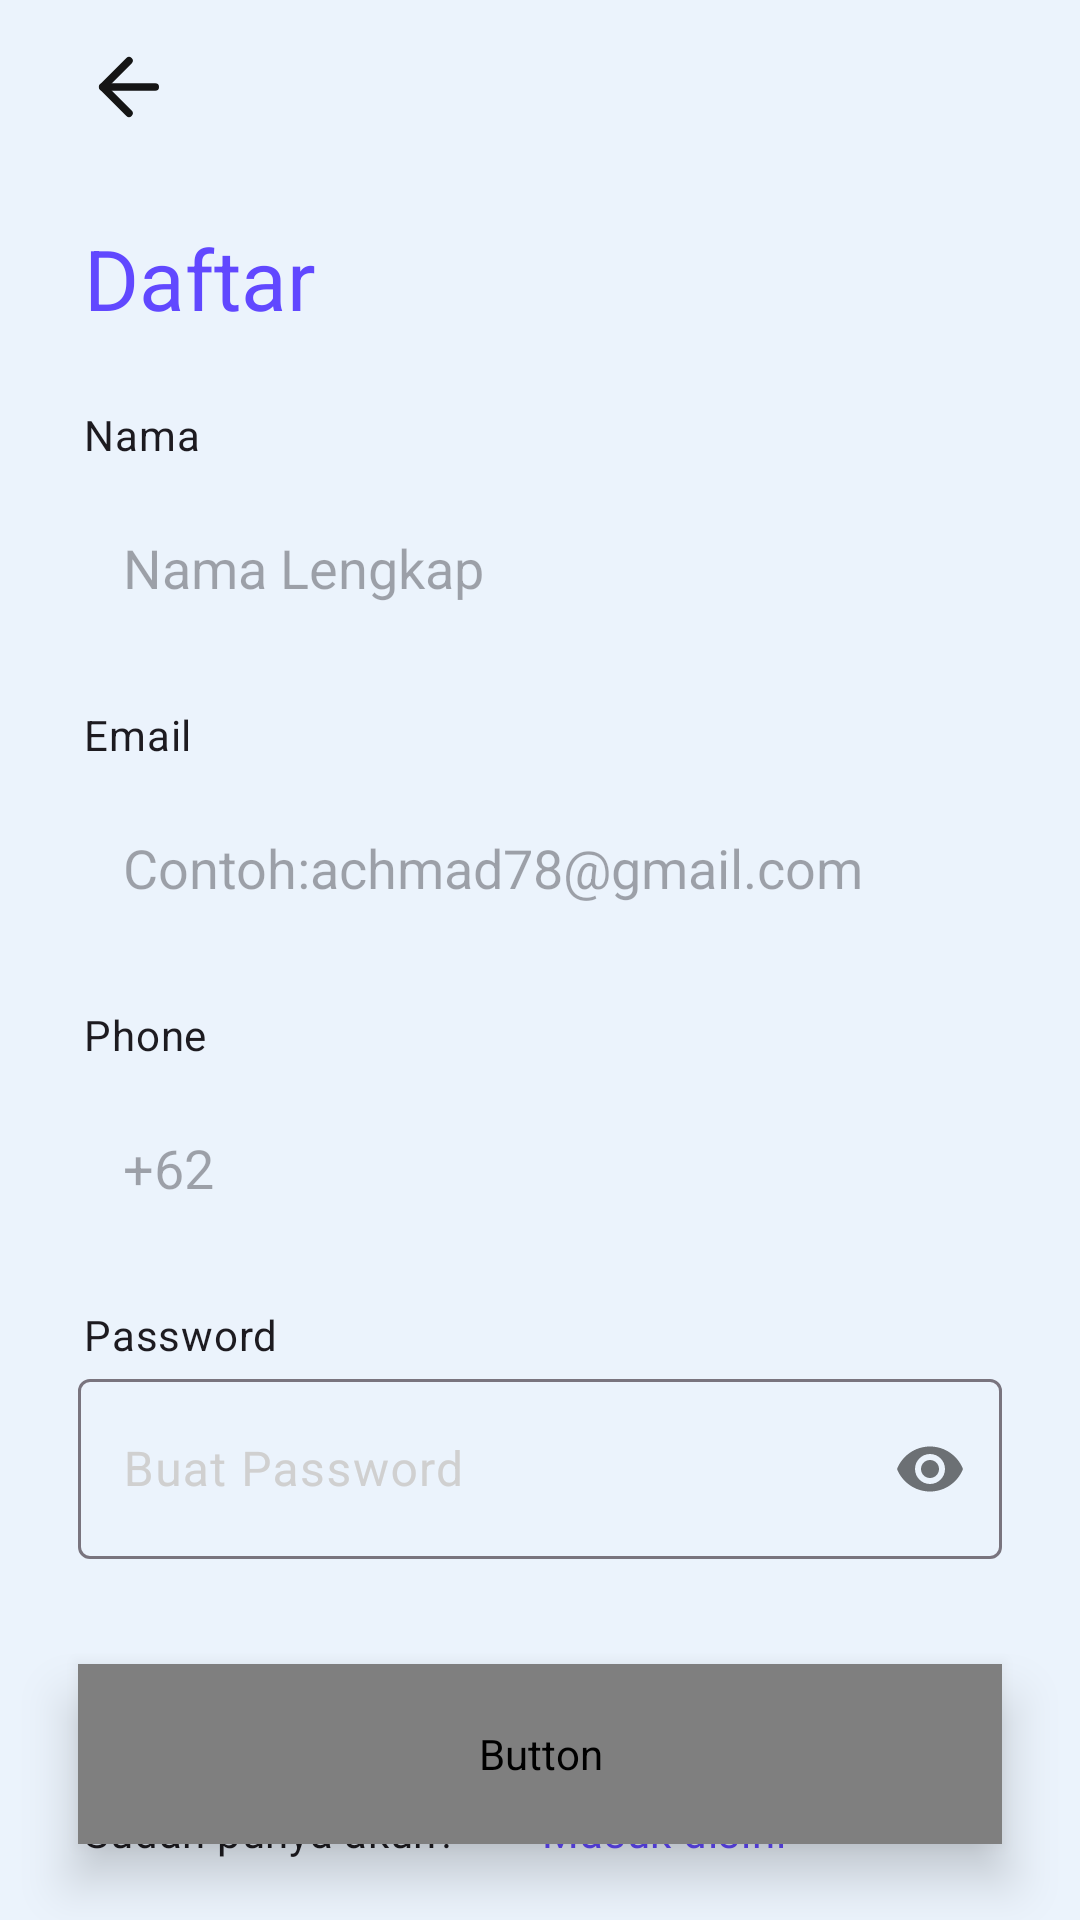

Icon click points for this 1080 x 1920 phone screenshot, format (x,y):
Button Back: (128,87)
